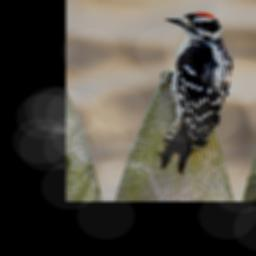Woodpecker: (161, 11, 236, 174)
